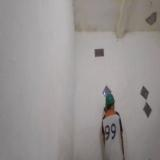Helmet: (105, 92, 116, 106)
